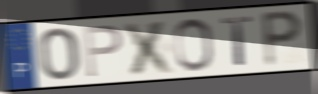O: (172, 16, 216, 73), (38, 26, 81, 82)
P: (259, 9, 305, 70), (81, 23, 124, 79)
T: (220, 15, 256, 68)
X: (121, 18, 178, 77)
